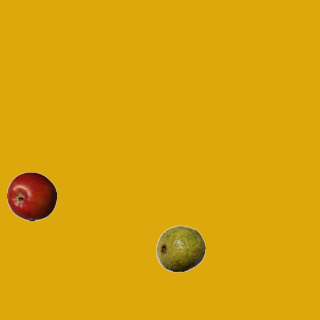Apple Braeburn: (6, 171, 56, 221)
Guava: (155, 223, 205, 273)
